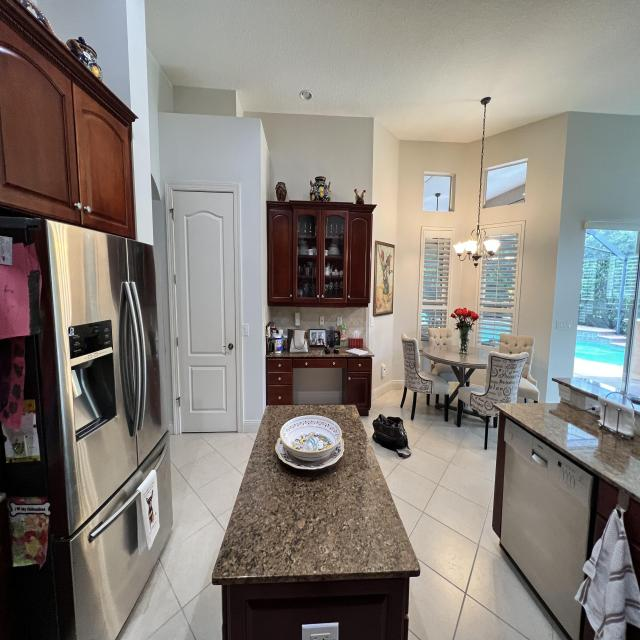Appliance_Dishwasher: (500, 419, 594, 640)
Appliance_Fridge: (0, 216, 173, 640)
Cabinet_Flat: (265, 356, 372, 417)
Cabinet_Glass: (294, 210, 348, 306)
Cabinet_Raised_Panel: (0, 0, 138, 241), (268, 209, 296, 305), (347, 212, 373, 304)
Countertop_Granite: (212, 405, 418, 578), (497, 403, 640, 499)
